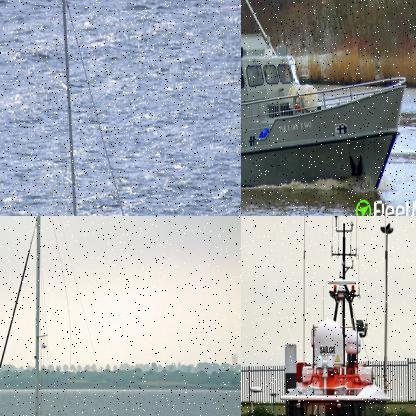Patrol Boat: (241, 0, 410, 194), (252, 216, 415, 415)
Sails Boat: (0, 0, 146, 215), (0, 216, 147, 415)
